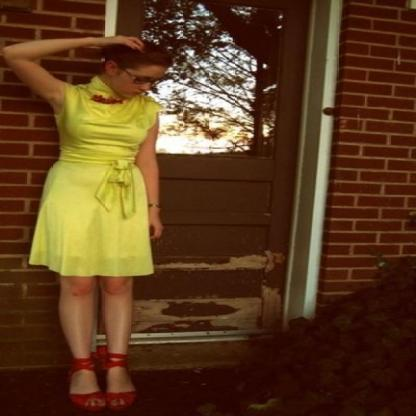dress: (29, 76, 161, 276)
shoe: (73, 341, 136, 410)
